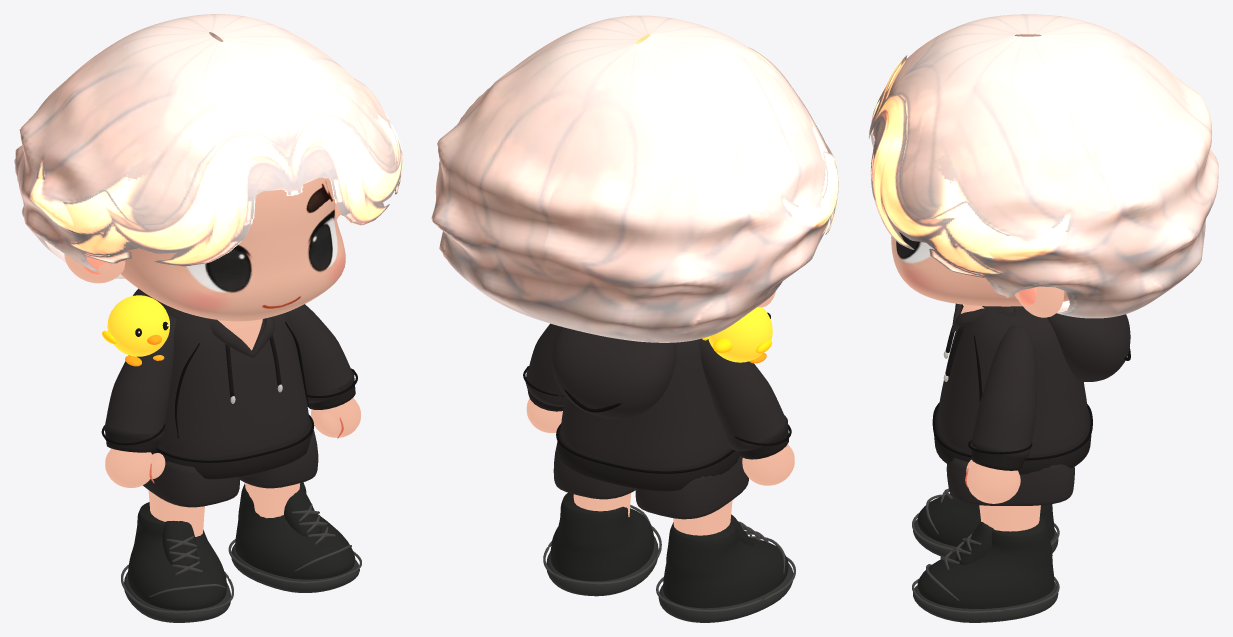
File: machi.glb
The picture shows the model from 3 angles, left to right: view 1: azimuth 30°, elevation 25°; view 2: azimuth 150°, elevation 25°; view 3: azimuth 270°, elevation 25°; orthographic projection. The views are drawn at different scales.
Visible parts, largest first — view 1: machi_hair, machi_hoodie, machi_bang_n, machi_face, machi_shoe, machi_skin, machi_hoodie_rib, machi_sole, machi_chick, machi_lace_n, machi_seam_n, machi_skin_n; view 2: machi_hair, machi_hoodie, machi_shoe, machi_hoodie_rib, machi_skin, machi_sole, machi_chick, machi_lace_n, machi_seam_n, machi_bang_n; view 3: machi_hair, machi_hoodie, machi_shoe, machi_bang_n, machi_face, machi_skin, machi_hoodie_rib, machi_sole, machi_lace_n, machi_seam_n.
Part boxes in pixels (bbox=[...]): machi_hair: bbox=[14, 14, 398, 278]; machi_hoodie: bbox=[104, 288, 352, 507]; machi_bang_n: bbox=[36, 113, 402, 266]; machi_face: bbox=[121, 177, 345, 321]; machi_shoe: bbox=[128, 482, 355, 610]; machi_skin: bbox=[64, 216, 360, 536]; machi_hoodie_rib: bbox=[104, 371, 355, 479]; machi_sole: bbox=[124, 544, 359, 622]; machi_chick: bbox=[107, 295, 169, 356]; machi_lace_n: bbox=[121, 503, 361, 613]; machi_seam_n: bbox=[101, 322, 357, 462]; machi_skin_n: bbox=[98, 208, 340, 350]; machi_hair: bbox=[431, 15, 832, 342]; machi_hoodie: bbox=[525, 323, 786, 519]; machi_shoe: bbox=[550, 492, 788, 608]; machi_hoodie_rib: bbox=[526, 371, 788, 491]; machi_skin: bbox=[526, 291, 794, 535]; machi_sole: bbox=[546, 536, 793, 622]; machi_chick: bbox=[708, 307, 772, 362]; machi_lace_n: bbox=[543, 505, 795, 612]; machi_seam_n: bbox=[523, 366, 791, 473]; machi_bang_n: bbox=[748, 47, 838, 234]; machi_hair: bbox=[872, 14, 1218, 318]; machi_hoodie: bbox=[938, 303, 1130, 505]; machi_shoe: bbox=[917, 493, 1054, 608]; machi_bang_n: bbox=[868, 55, 1072, 277]; machi_face: bbox=[891, 232, 1068, 306]; machi_skin: bbox=[966, 286, 1064, 531]; machi_hoodie_rib: bbox=[934, 407, 1091, 474]; machi_sole: bbox=[913, 519, 1058, 622]; machi_lace_n: bbox=[912, 488, 1059, 613]; machi_seam_n: bbox=[932, 335, 1130, 460].
Size of the model in its own units: 4.1 by 5.96 by 3.51.
Materials: 19 (3 with a texture image).
